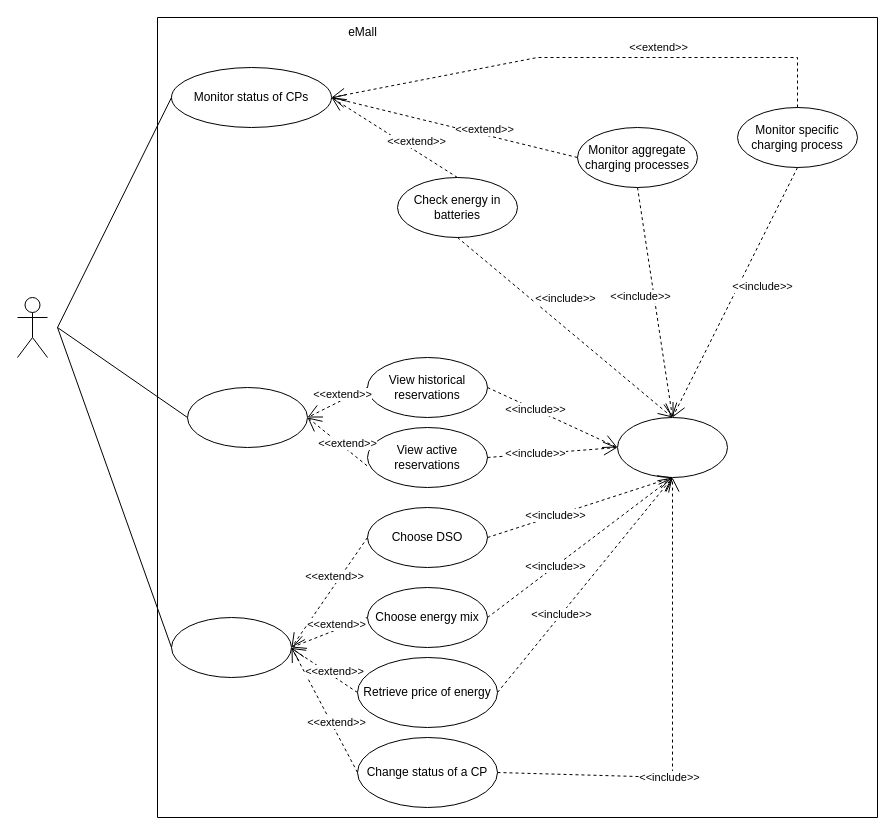
Some shapes in this 895 by 835 pixel diagram are drawn without their labels. The shapes that lost their labels are listed below. From the top down, each one's centre as x and y in pixels, then its label:
(32,327): CPO
(247,417): View reservations
(672,447): Login
(231,647): Manage CP
